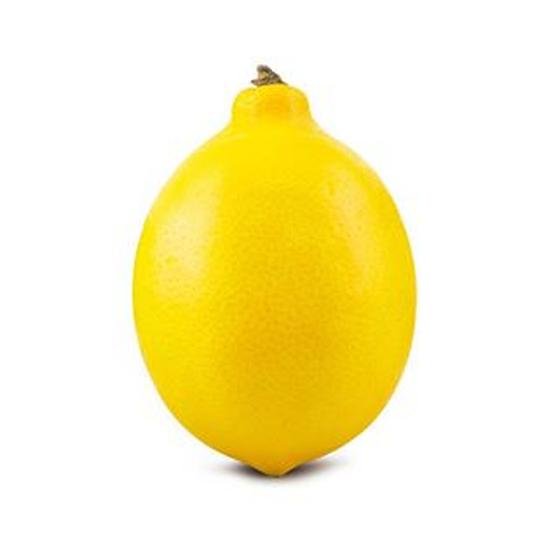lemon: (135, 79, 423, 478)
